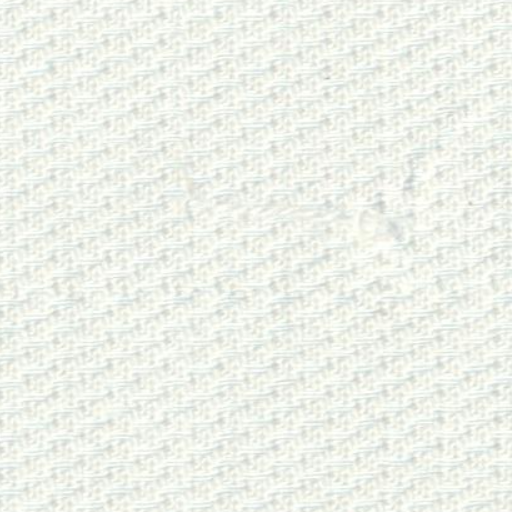DuanSha: (278, 164, 411, 272)
